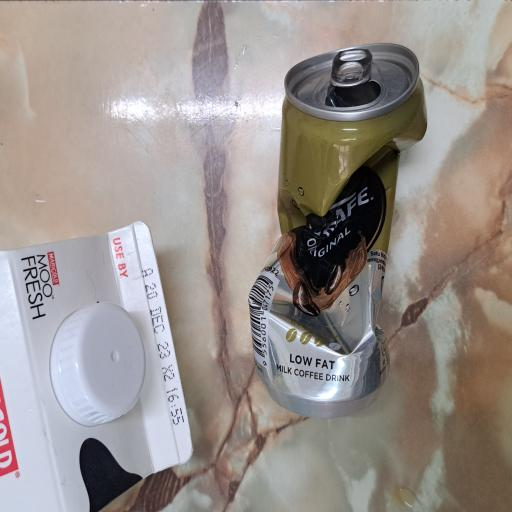can: (67, 328, 352, 512)
drink carton: (0, 0, 217, 252)
plastic bottle cap: (64, 70, 160, 196)
